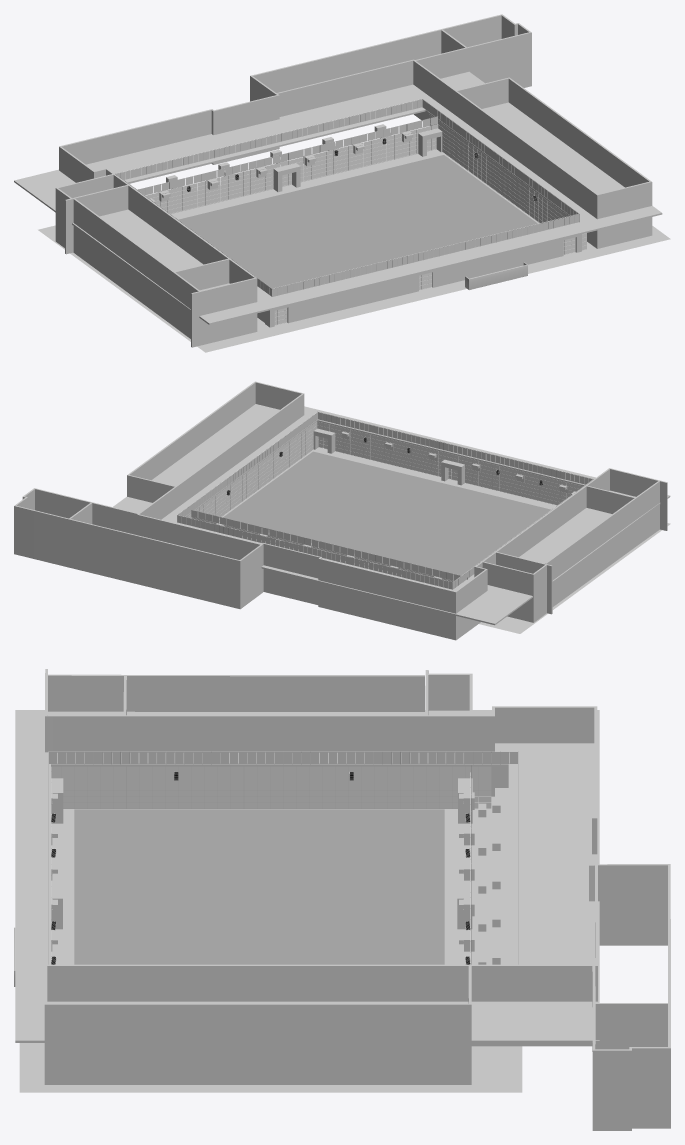
The model's file is building.glb.
The picture shows the model from 3 angles, top to bottom: view 1: azimuth 30°, elevation 25°; view 2: azimuth 150°, elevation 25°; view 3: azimuth 270°, elevation 25°; orthographic projection. The views are drawn at different scales.
Parts seen in each view (by area): view 1: Outter wall, GreenZone, 2nd floor base, BagaPie_Handrail.003, GroundPlane, PerforatedPlating.003, Inner wall, PerforatedPlating, BagaPie_Handrail.001, Reception table, PerforatedPlating.002, DoorBlock_FrontR; view 2: Outter wall, GreenZone, 2nd floor base, BagaPie_Handrail.003, PerforatedPlating.002, PerforatedPlating, GroundPlane, BagaPie_Handrail.001, Inner wall, PerforatedPlating.003, DoorBlock_main; view 3: Outter wall, GreenZone, 2nd floor base, GroundPlane, PerforatedPlating.001, BagaPie_Handrail.003, Inner wall, MiddleSteps.
Boxes of the visible parts, bbox=[...] form: Outter wall: bbox=[55, 14, 652, 347]; GreenZone: bbox=[178, 155, 538, 293]; 2nd floor base: bbox=[14, 71, 662, 324]; BagaPie_Handrail.003: bbox=[115, 98, 579, 296]; GroundPlane: bbox=[38, 145, 670, 352]; PerforatedPlating.003: bbox=[146, 124, 438, 213]; Inner wall: bbox=[257, 234, 581, 327]; PerforatedPlating: bbox=[429, 114, 568, 228]; BagaPie_Handrail.001: bbox=[137, 116, 437, 195]; Reception table: bbox=[465, 262, 527, 289]; PerforatedPlating.002: bbox=[274, 233, 586, 325]; DoorBlock_FrontR: bbox=[273, 163, 300, 192]; Outter wall: bbox=[14, 381, 667, 640]; GreenZone: bbox=[219, 451, 550, 580]; 2nd floor base: bbox=[113, 404, 670, 625]; BagaPie_Handrail.003: bbox=[177, 411, 593, 589]; PerforatedPlating.002: bbox=[317, 421, 583, 505]; PerforatedPlating: bbox=[187, 422, 316, 520]; GroundPlane: bbox=[219, 447, 670, 633]; BagaPie_Handrail.001: bbox=[191, 510, 467, 580]; Inner wall: bbox=[316, 420, 584, 502]; PerforatedPlating.003: bbox=[191, 517, 453, 582]; DoorBlock_main: bbox=[441, 459, 464, 485]; Outter wall: bbox=[44, 669, 670, 1130]; GreenZone: bbox=[74, 809, 444, 964]; 2nd floor base: bbox=[15, 710, 599, 1042]; GroundPlane: bbox=[19, 788, 522, 1092]; PerforatedPlating.001: bbox=[51, 766, 491, 808]; BagaPie_Handrail.003: bbox=[48, 751, 518, 964]; Inner wall: bbox=[50, 764, 466, 964]; MiddleSteps: bbox=[478, 799, 500, 964].
Bounding box in the file's own units: 71.23 × 7.94 × 51.82.
3 materials, 2 textured.
